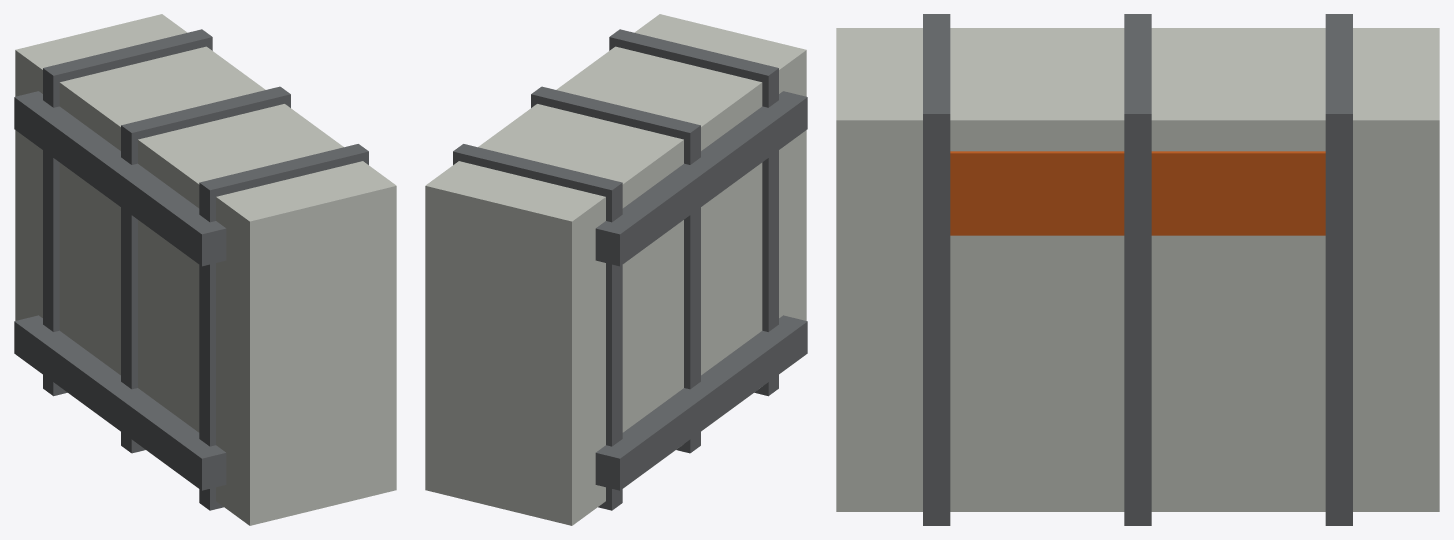
Rendered from u70_field_ctl.obj.
The picture shows the model from 3 angles, left to right: view 1: azimuth 30°, elevation 25°; view 2: azimuth 150°, elevation 25°; view 3: azimuth 270°, elevation 25°; orthographic projection. The views are drawn at different scales.
Visible parts, largest first — view 1: u70_field_ctl; view 2: u70_field_ctl; view 3: u70_field_ctl.
Boxes of the visible parts, <box> form: u70_field_ctl: <box>14,14,396,525</box>; u70_field_ctl: <box>425,14,807,525</box>; u70_field_ctl: <box>836,14,1439,525</box>.
Bounding box in the file's own units: 0.58 × 1 × 1.33.
